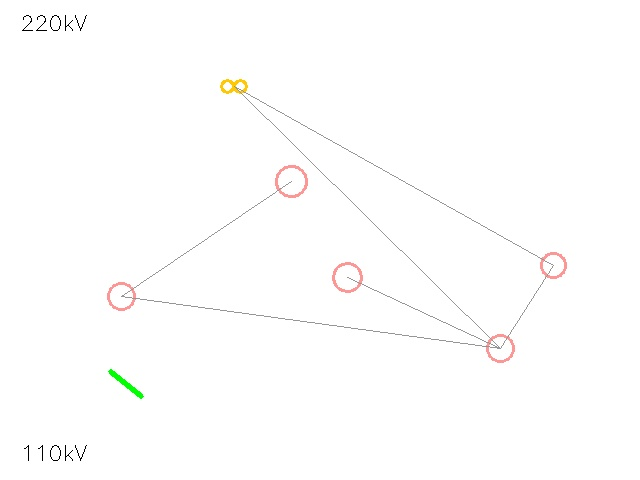busbar: (101, 359, 151, 409)
current_transformer: (95, 270, 147, 322), (529, 241, 577, 289)
surge_arrester: (261, 151, 321, 211), (474, 322, 526, 374)
transformer_2w: (218, 70, 250, 102)
voltage_transformer: (319, 249, 375, 305)
